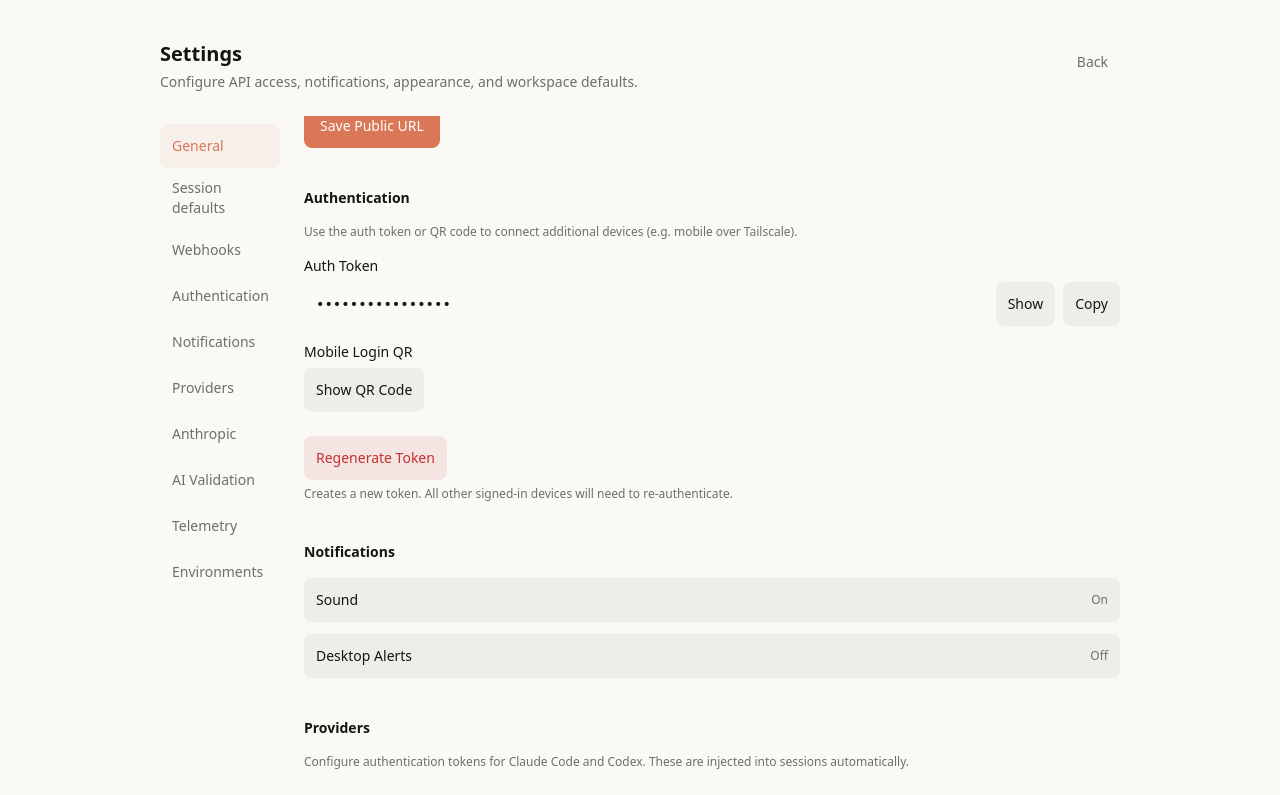
Test: SettingsPage › regenerates the token after user confirms
(page scrolled)
Click the button "Regenerate Token" at (375, 458), box [304,436,447,480]
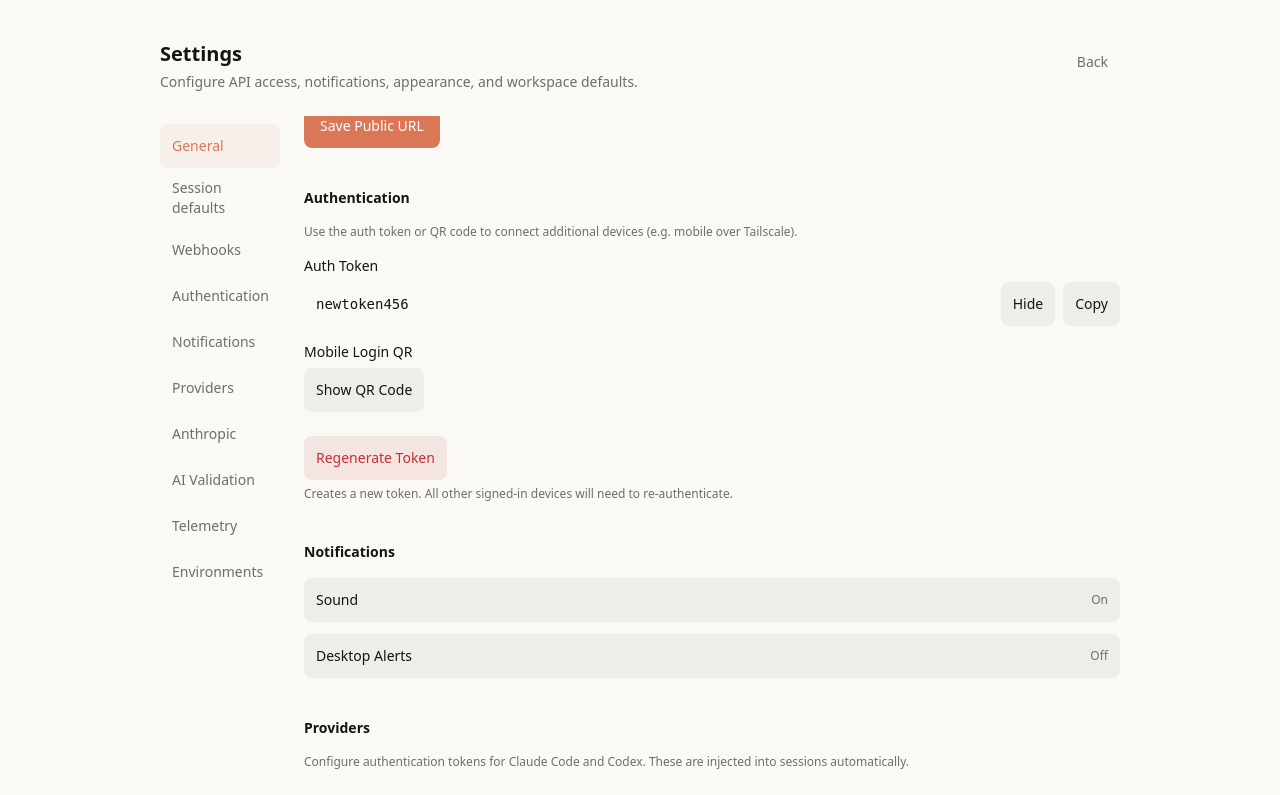
Expected: the text "newtoken456" is shown, [304,282,993,326]
